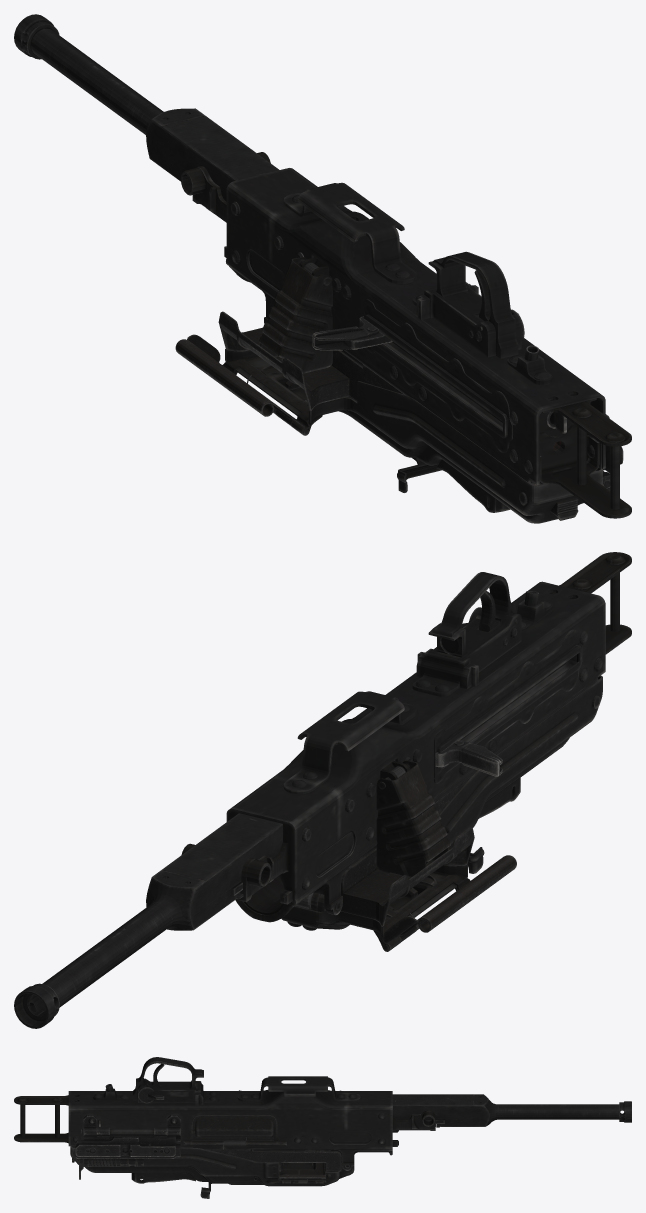
3 renders of one model, top to bottom at view 1: azimuth 30°, elevation 25°; view 2: azimuth 150°, elevation 25°; view 3: azimuth 270°, elevation 25°, orthographic. The views are drawn at different scales.
Visible parts, largest first — view 1: TW_64ca3d3954fc657e230529cc_PZ_Import; view 2: TW_64ca3d3954fc657e230529cc_PZ_Import; view 3: TW_64ca3d3954fc657e230529cc_PZ_Import.
Boxes of the visible parts, x1,y1,x2,y2 form: TW_64ca3d3954fc657e230529cc_PZ_Import: (14, 14, 631, 523); TW_64ca3d3954fc657e230529cc_PZ_Import: (14, 552, 631, 1028); TW_64ca3d3954fc657e230529cc_PZ_Import: (14, 1057, 631, 1198).
Bounding box in the file's own units: 0.0754 × 0.3816 × 0.0897.
Materials: 1 (1 with a texture image).
